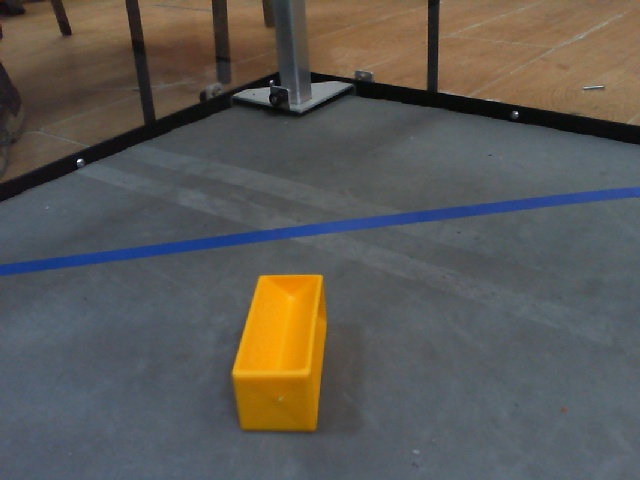YellowSample: (229, 264, 337, 437)
